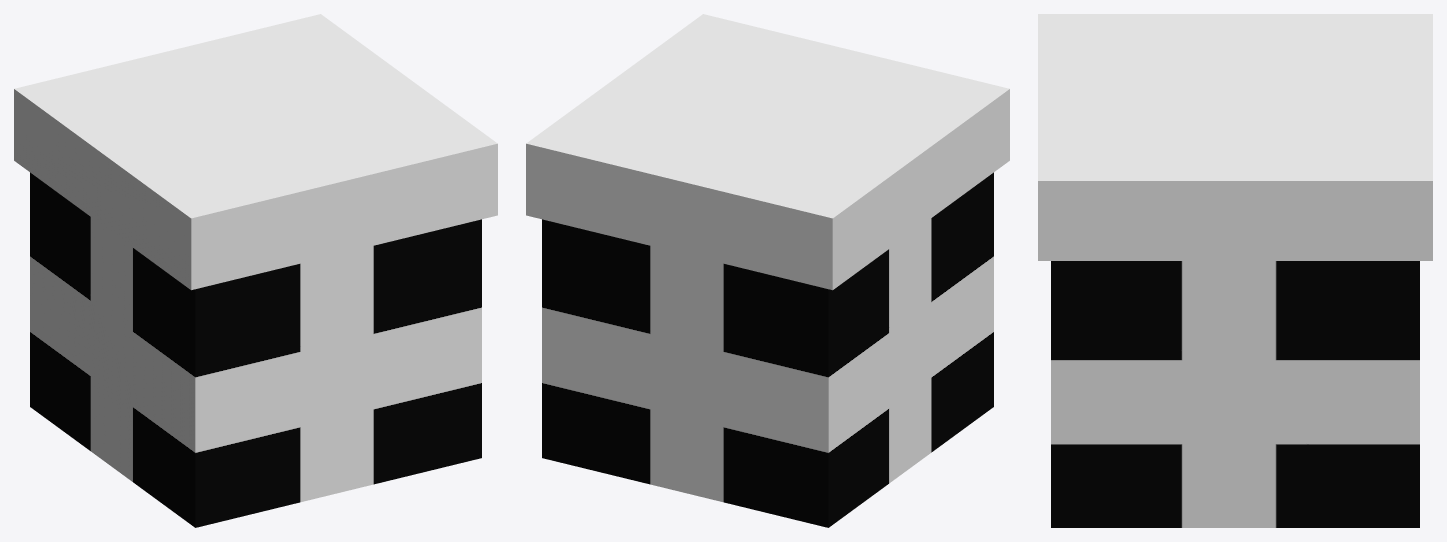
The model's file is present.glb.
3 views of the same model, side by side, from view 1: azimuth 30°, elevation 25°; view 2: azimuth 150°, elevation 25°; view 3: azimuth 270°, elevation 25° (orthographic). The views are drawn at different scales.
Parts seen in each view (by area): view 1: Cube; view 2: Cube; view 3: Cube.
Part boxes in pixels (x1,y1,x2,y2): Cube: (14,14,497,527); Cube: (526,14,1009,527); Cube: (1038,14,1432,527).
Bounding box in the file's own units: 2.14 × 2.11 × 2.14.
Materials: 1 (1 with a texture image).
